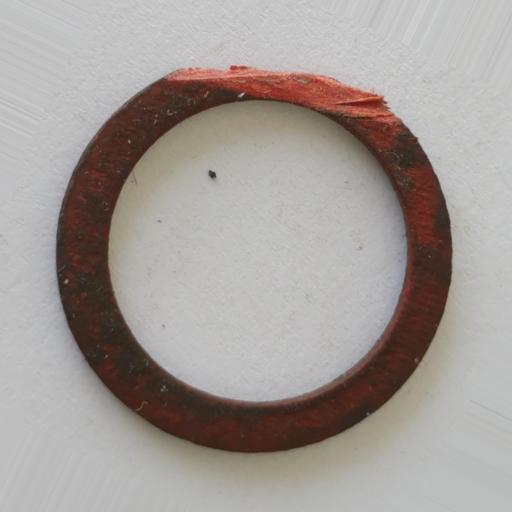defect: (166, 65, 402, 126)
